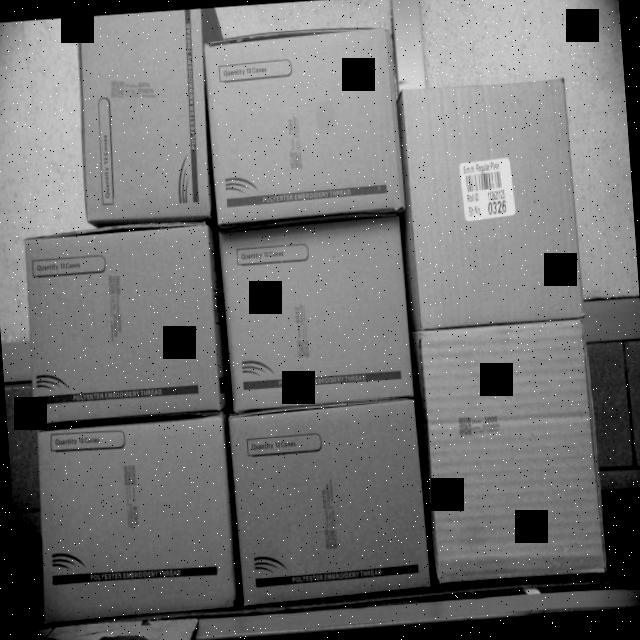box: (400, 75, 584, 334), (424, 328, 606, 582), (229, 392, 430, 610), (32, 414, 238, 620), (21, 221, 223, 428), (214, 202, 408, 404), (200, 27, 402, 220), (74, 9, 211, 226)
